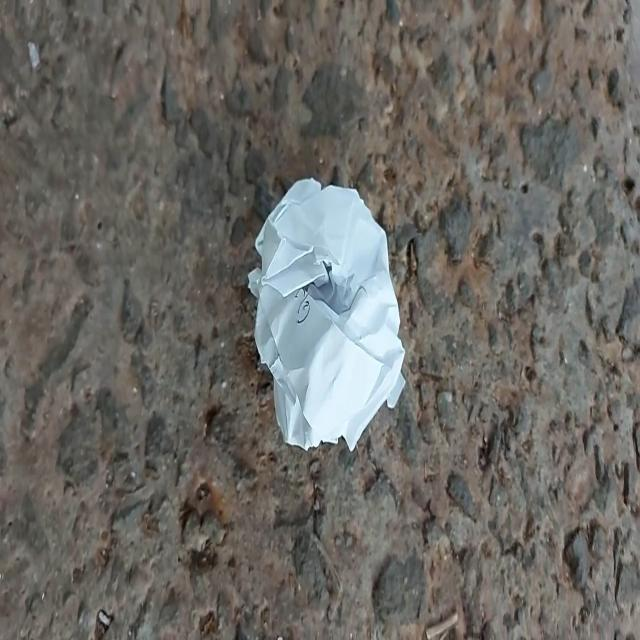paper: (236, 163, 419, 463)
